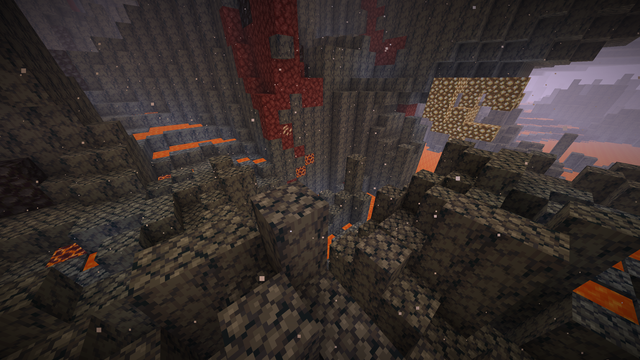quartz: (281, 123, 293, 135)
